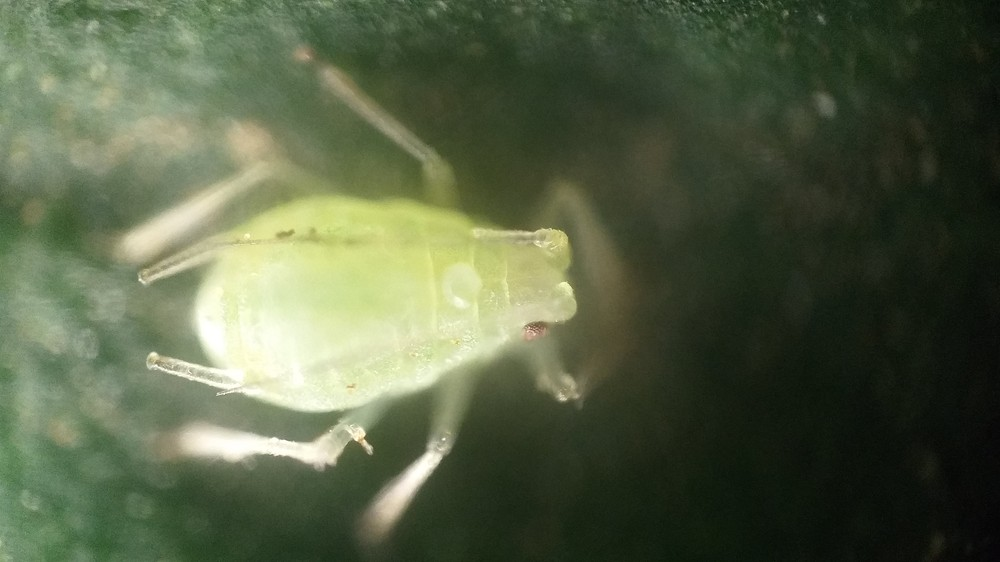Pulgon: (91, 71, 679, 525)
